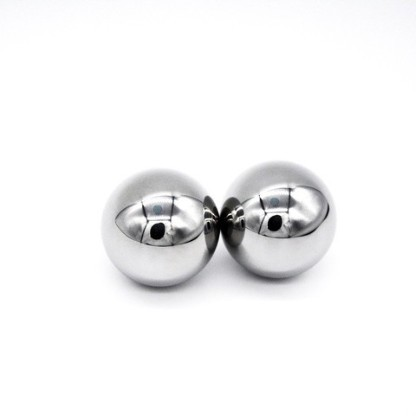ironball: (99, 166, 220, 287), (219, 159, 337, 279)
